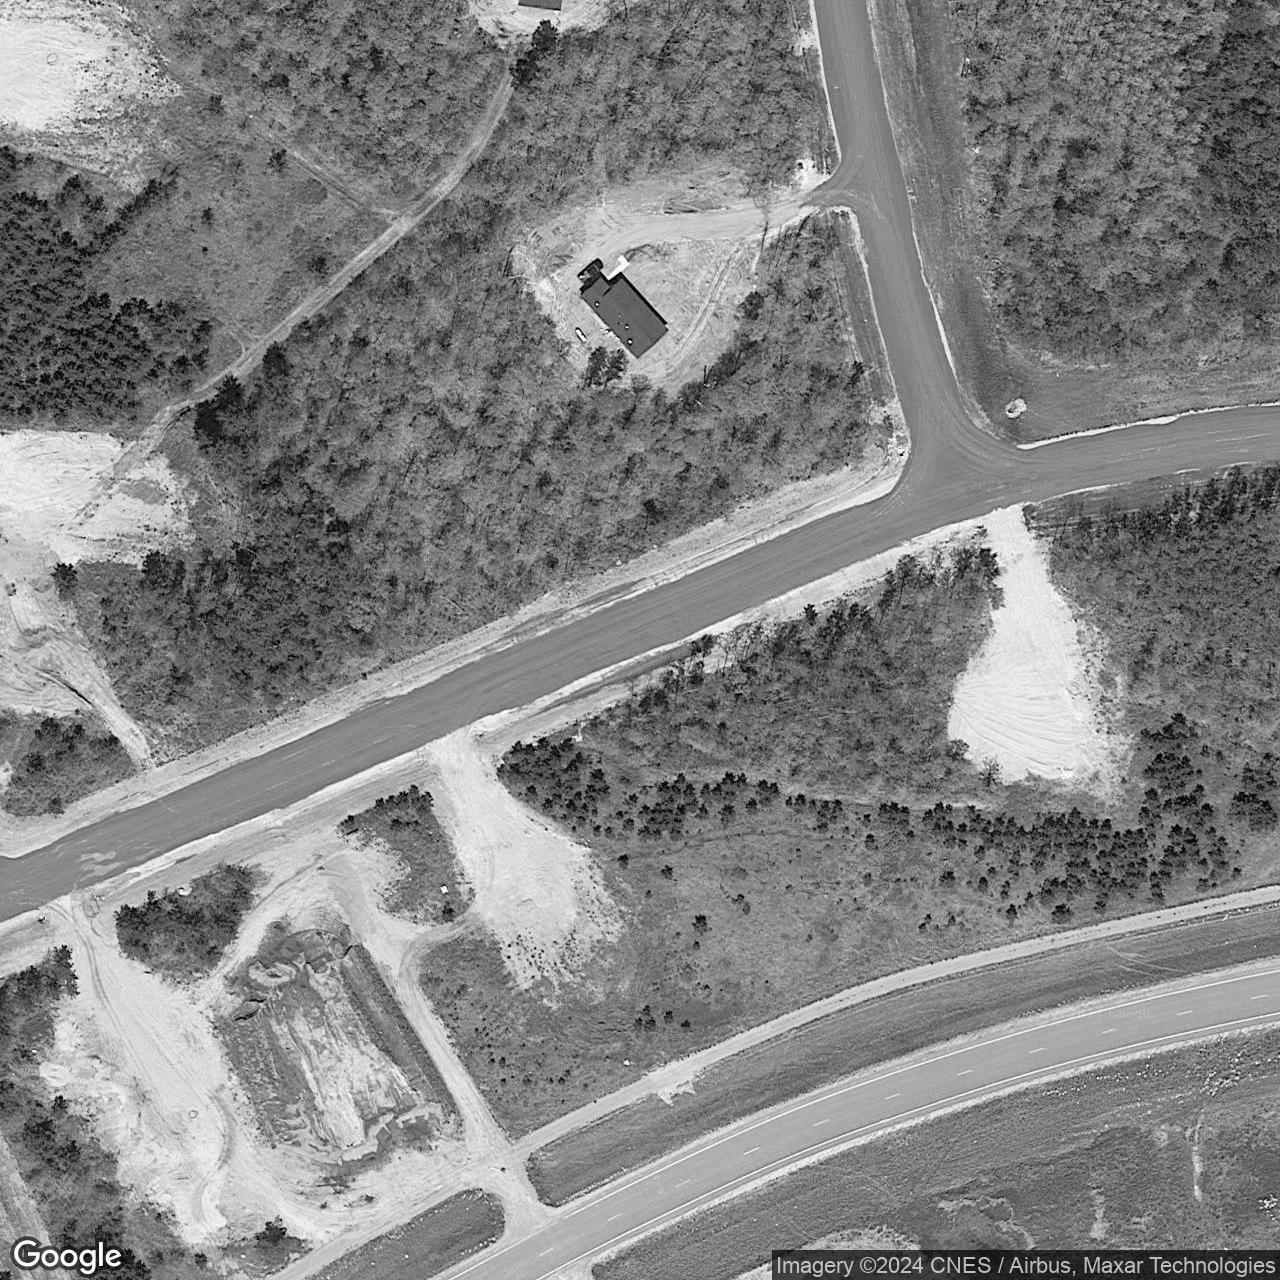House: (579, 274, 670, 360)
Propane: (573, 325, 590, 346)
